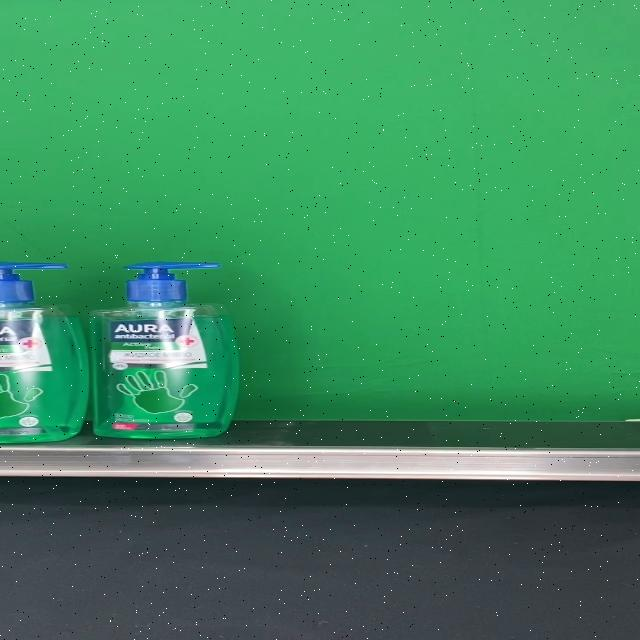Bottle: (89, 262, 239, 438)
Cap: (126, 261, 220, 301)
